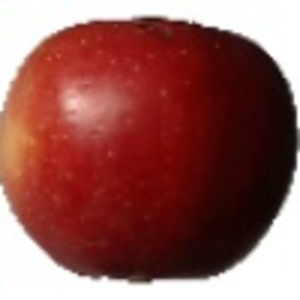maçã braeburn: (2, 14, 299, 283)
